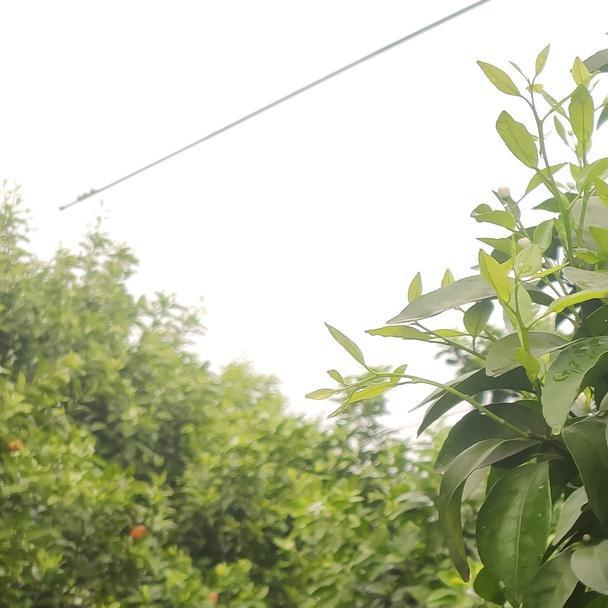shoot: (482, 52, 592, 227), (296, 323, 457, 420), (472, 240, 584, 368)
